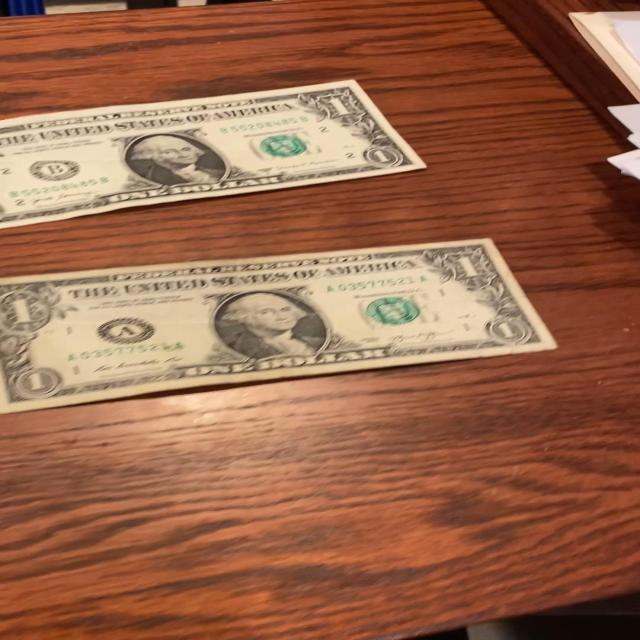1-Front: (0, 232, 567, 422), (0, 79, 431, 231)
